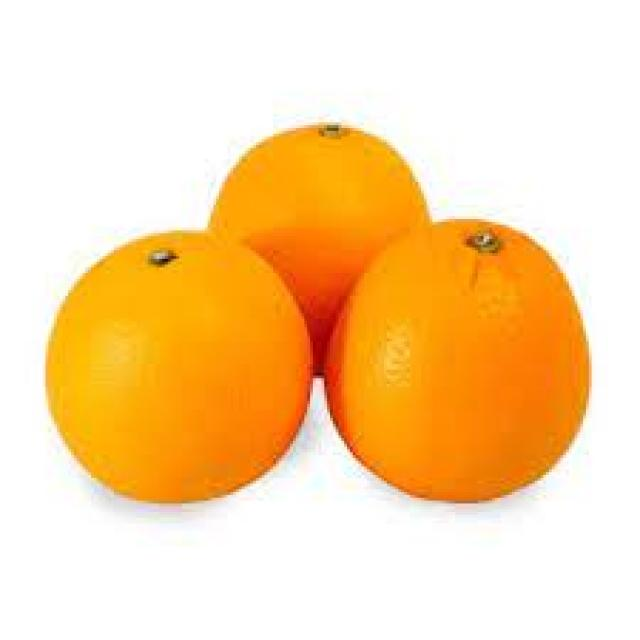Good_Orange: (321, 219, 594, 506), (43, 230, 319, 506), (205, 122, 432, 378)
